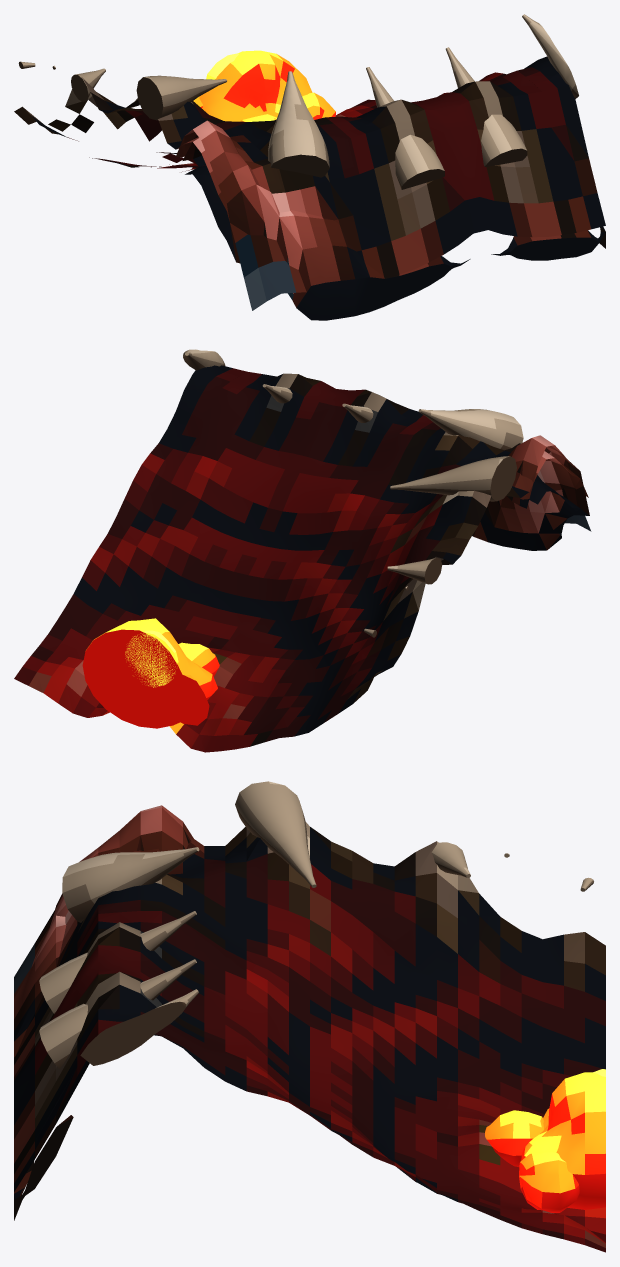
The model's file is gyges_maw_275.glb.
The picture shows the model from 3 angles, top to bottom: view 1: azimuth 30°, elevation 25°; view 2: azimuth 150°, elevation 25°; view 3: azimuth 270°, elevation 25°; orthographic projection. The views are drawn at different scales.
Parts seen in each view (by area): view 1: gyges_maw_275_body, gyges_maw_275_lips, gyges_maw_275_fireball, gyges_maw_275_tooth6, gyges_maw_275_tooth7, gyges_maw_275_tooth5, gyges_maw_275_tooth7_m, gyges_maw_275_tooth6_m, gyges_maw_275_tooth4, gyges_maw_275_fireball_flame1; view 2: gyges_maw_275_body, gyges_maw_275_fireball, gyges_maw_275_lips, gyges_maw_275_tooth5, gyges_maw_275_tooth6, gyges_maw_275_fireball_core, gyges_maw_275_fireball_flame0, gyges_maw_275_tooth4, gyges_maw_275_fireball_flame3, gyges_maw_275_tooth6_m; view 3: gyges_maw_275_body, gyges_maw_275_lips, gyges_maw_275_fireball, gyges_maw_275_tooth6, gyges_maw_275_tooth5, gyges_maw_275_tooth6_m, gyges_maw_275_fireball_flame1, gyges_maw_275_tooth7_m, gyges_maw_275_fireball_flame3, gyges_maw_275_tooth7, gyges_maw_275_tooth4.
Part boxes in pixels (x1=…): gyges_maw_275_body: x1=14, y1=56, x2=605, y2=310; gyges_maw_275_lips: x1=176, y1=120, x2=605, y2=320; gyges_maw_275_fireball: x1=199, y1=50, x2=312, y2=121; gyges_maw_275_tooth6: x1=268, y1=71, x2=329, y2=177; gyges_maw_275_tooth7: x1=366, y1=67, x2=444, y2=189; gyges_maw_275_tooth5: x1=136, y1=75, x2=226, y2=120; gyges_maw_275_tooth7_m: x1=445, y1=47, x2=527, y2=166; gyges_maw_275_tooth6_m: x1=522, y1=14, x2=578, y2=98; gyges_maw_275_tooth4: x1=71, y1=68, x2=105, y2=101; gyges_maw_275_fireball_flame1: x1=302, y1=92, x2=335, y2=119; gyges_maw_275_body: x1=14, y1=365, x2=591, y2=752; gyges_maw_275_fireball: x1=82, y1=618, x2=217, y2=728; gyges_maw_275_lips: x1=472, y1=435, x2=589, y2=550; gyges_maw_275_tooth5: x1=390, y1=456, x2=516, y2=501; gyges_maw_275_tooth6: x1=418, y1=409, x2=523, y2=450; gyges_maw_275_fireball_core: x1=125, y1=630, x2=178, y2=687; gyges_maw_275_fireball_flame0: x1=157, y1=675, x2=209, y2=725; gyges_maw_275_tooth4: x1=387, y1=557, x2=442, y2=584; gyges_maw_275_fireball_flame3: x1=178, y1=642, x2=219, y2=676; gyges_maw_275_tooth6_m: x1=183, y1=349, x2=225, y2=370; gyges_maw_275_body: x1=14, y1=822, x2=605, y2=1252; gyges_maw_275_lips: x1=14, y1=805, x2=193, y2=1220; gyges_maw_275_fireball: x1=521, y1=1072, x2=605, y2=1209; gyges_maw_275_tooth6: x1=62, y1=847, x2=199, y2=922; gyges_maw_275_tooth5: x1=235, y1=781, x2=316, y2=887; gyges_maw_275_tooth6_m: x1=80, y1=989, x2=198, y2=1065; gyges_maw_275_fireball_flame1: x1=519, y1=1151, x2=579, y2=1212; gyges_maw_275_tooth7_m: x1=39, y1=959, x2=196, y2=1068; gyges_maw_275_fireball_flame3: x1=485, y1=1110, x2=543, y2=1166; gyges_maw_275_tooth7: x1=39, y1=911, x2=196, y2=1013; gyges_maw_275_tooth4: x1=431, y1=842, x2=470, y2=877.
Bounding box in the file's own units: 23.98 × 15.23 × 27.98.
